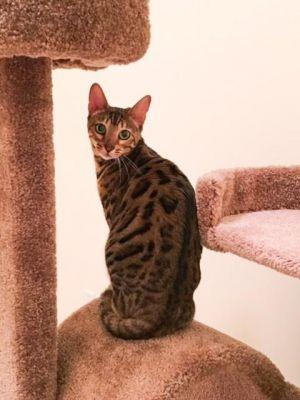bengal: (77, 74, 163, 172)
